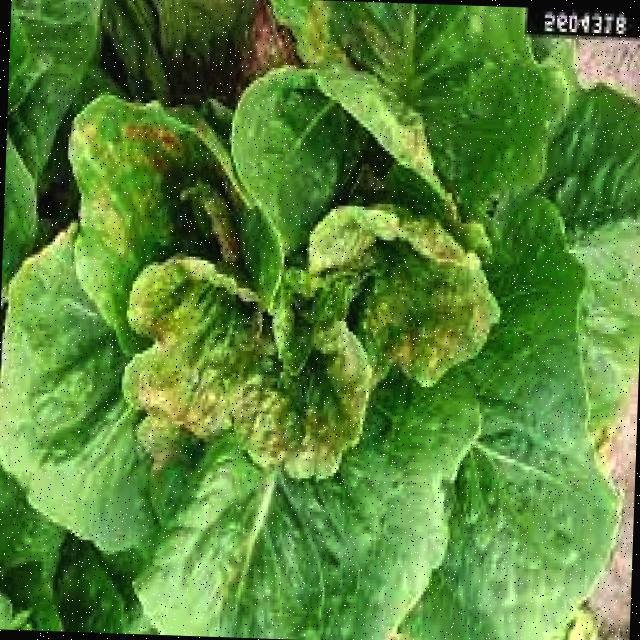Lettuce Mosaic Virus: (62, 97, 504, 544)
